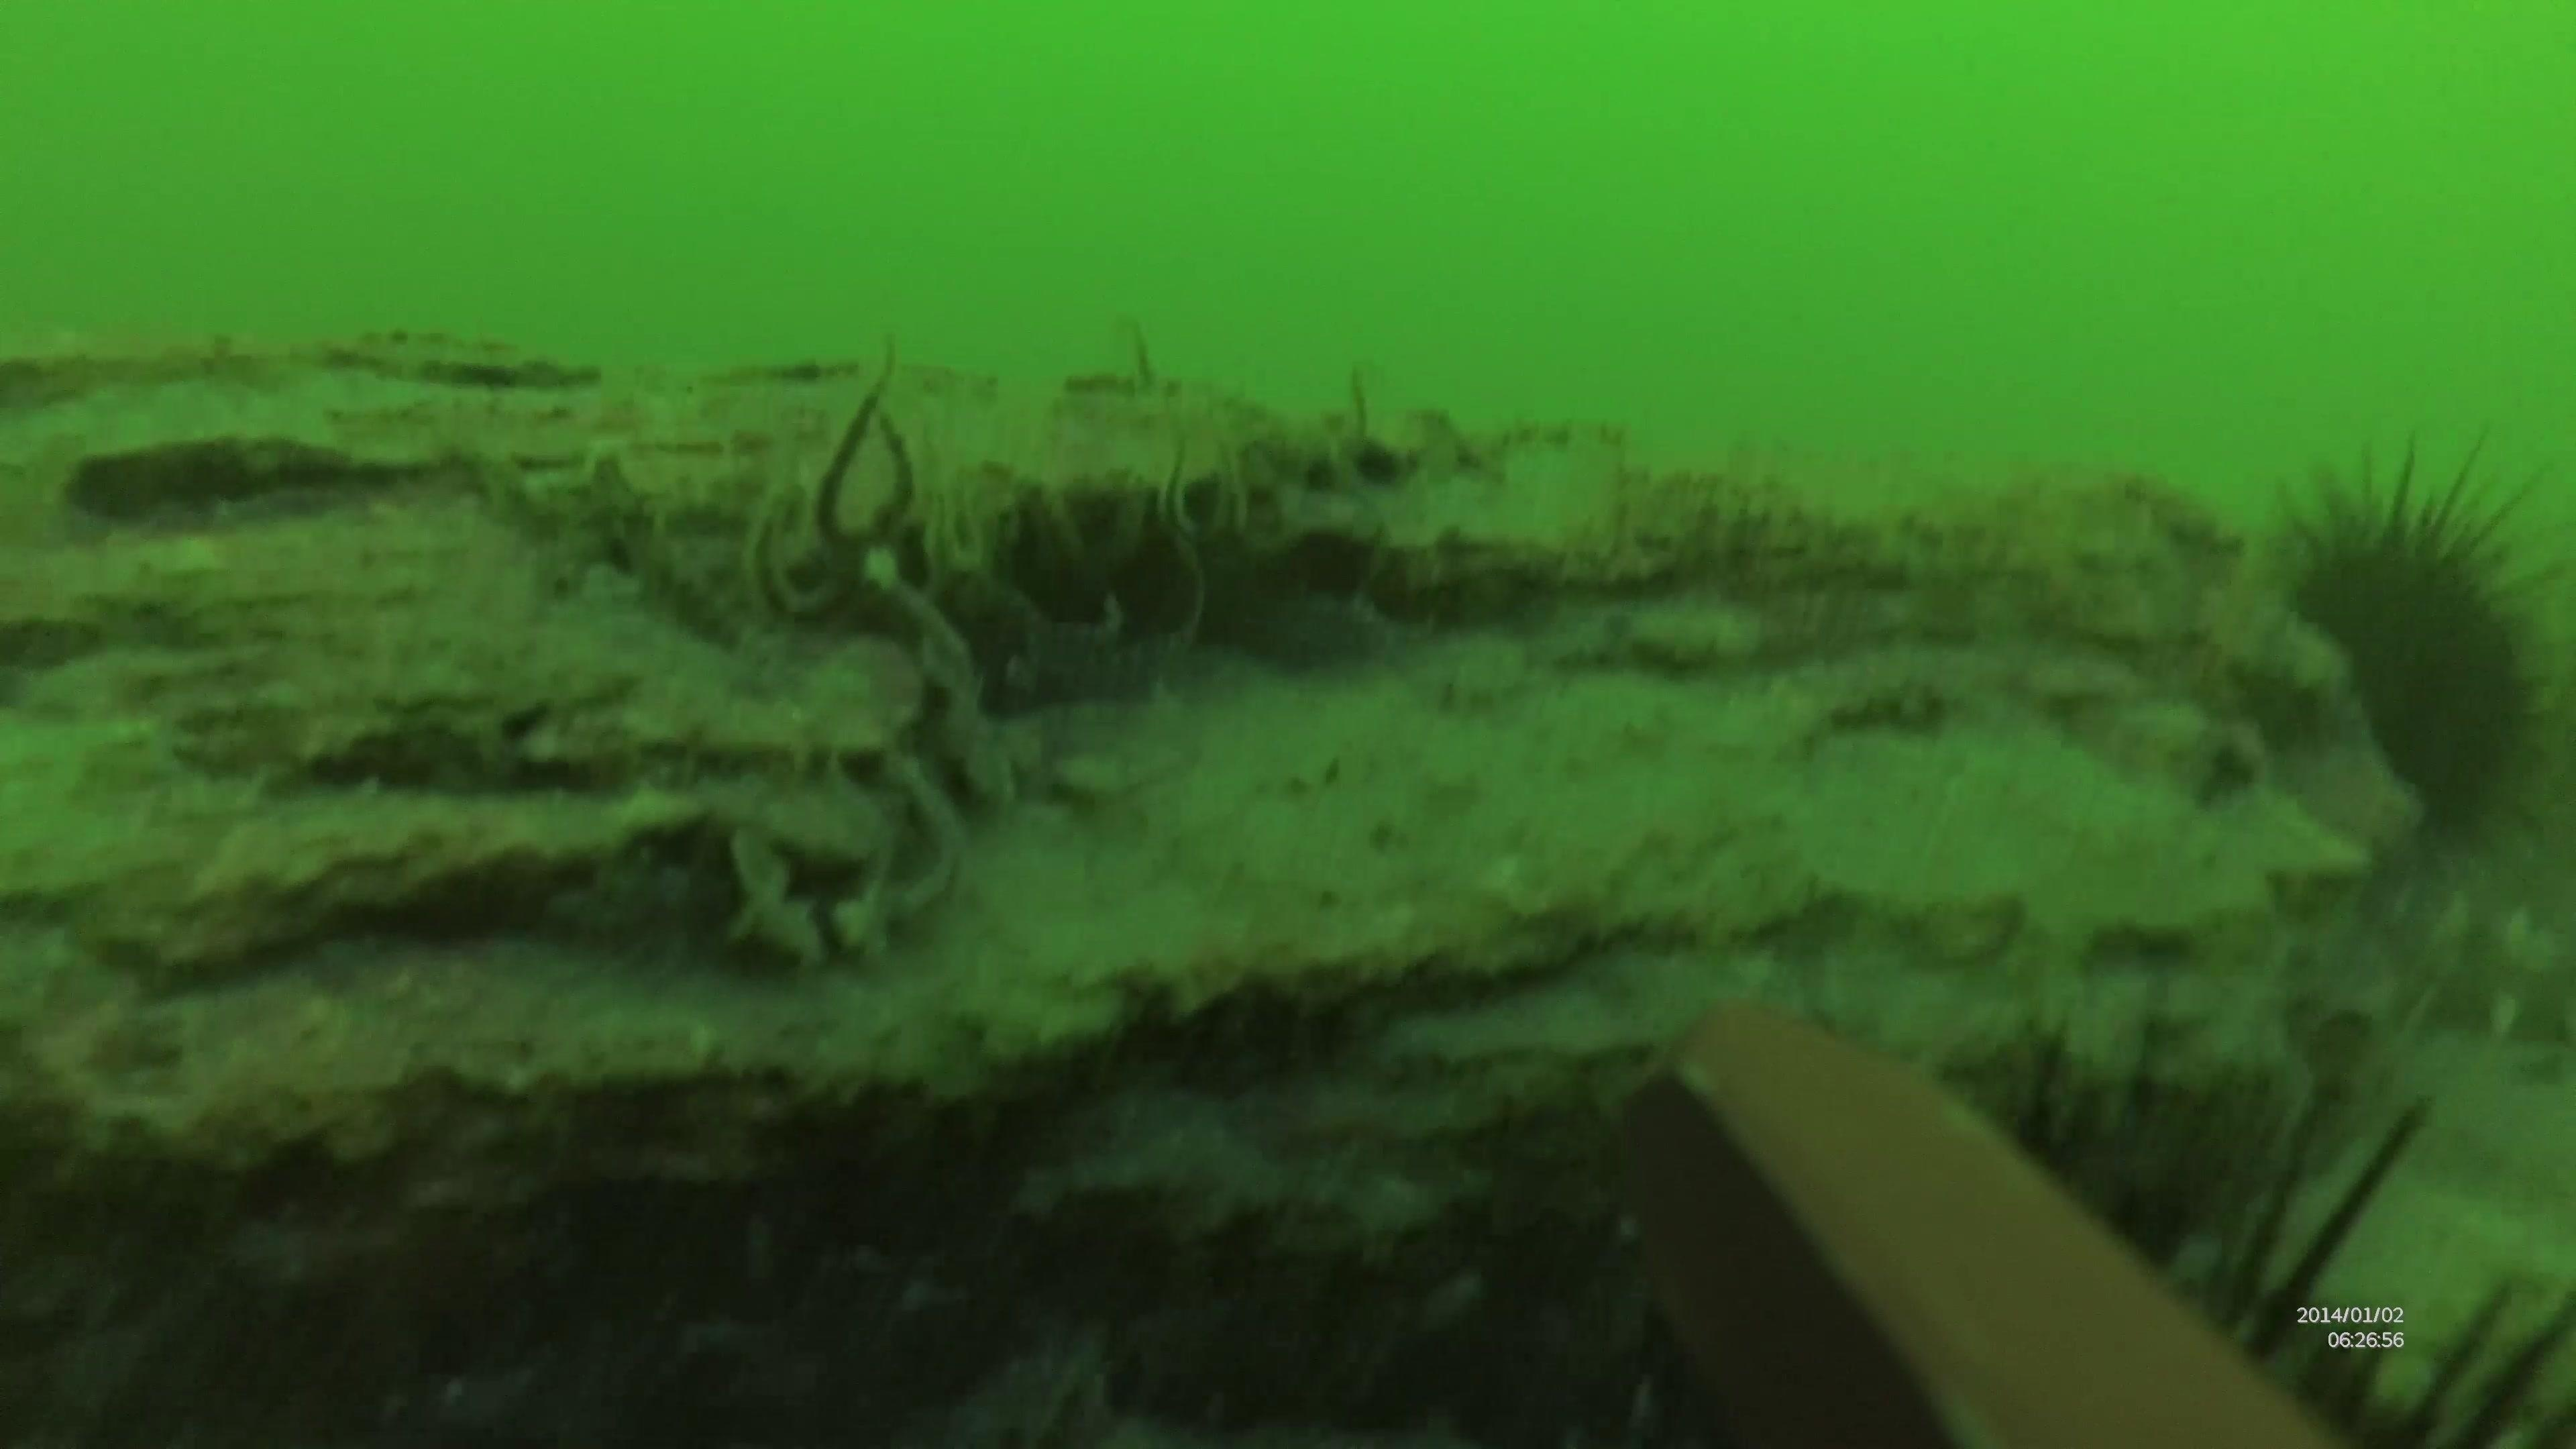echinus: (1928, 1005, 2565, 1442), (2238, 433, 2572, 851)
holothurian: (2284, 872, 2576, 1054)
